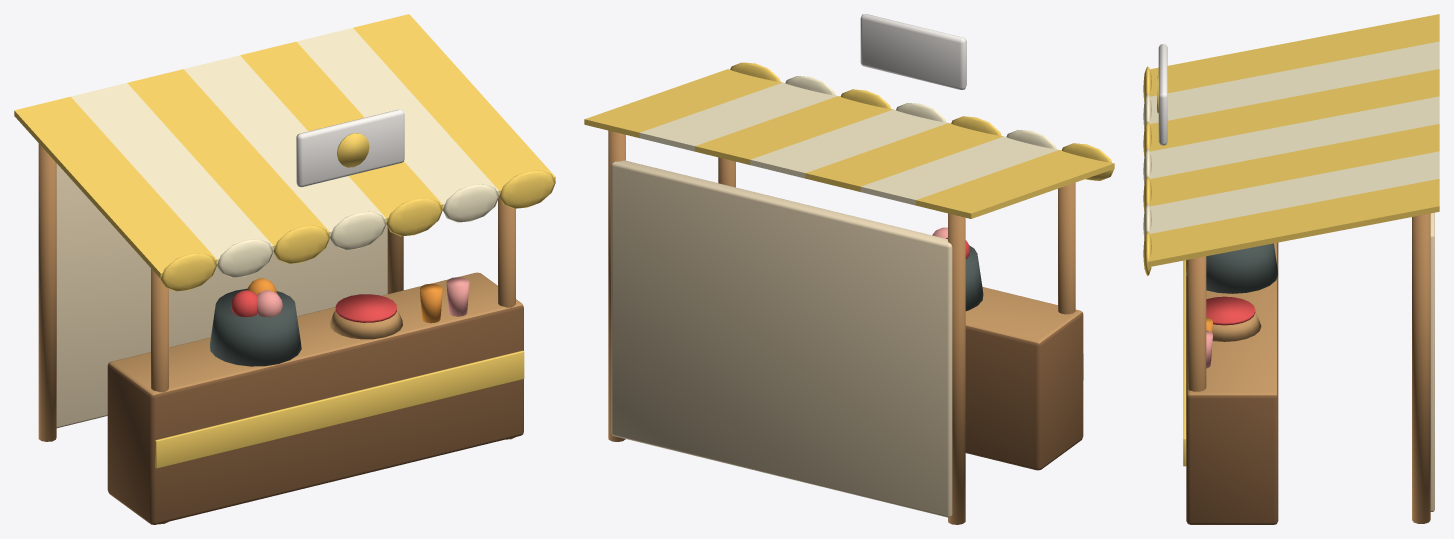
File: festival-booth-food.glb
The picture shows the model from 3 angles, left to right: view 1: azimuth 30°, elevation 25°; view 2: azimuth 150°, elevation 25°; view 3: azimuth 270°, elevation 25°; orthographic projection. The views are drawn at different scales.
Parts seen in each view (by area): view 1: booth, goods; view 2: booth, goods; view 3: booth, goods.
Part boxes in pixels (<box>): booth: <box>14,14,555,524</box>; goods: <box>210,277,469,366</box>; booth: <box>584,14,1114,524</box>; goods: <box>932,227,983,310</box>; booth: <box>1143,14,1439,524</box>; goods: <box>1186,243,1278,368</box>.
Bounding box in the file's own units: 2.96 × 2.64 × 1.93.
